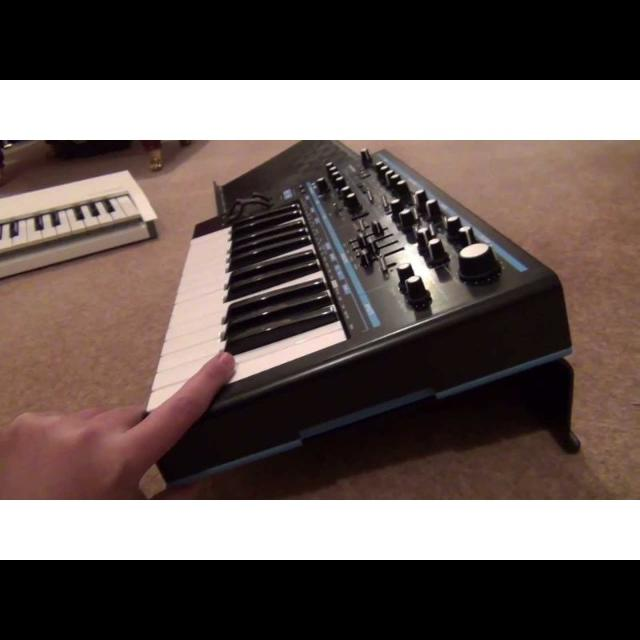Electronic-Keyboard: (160, 162, 582, 478), (6, 178, 142, 258)
